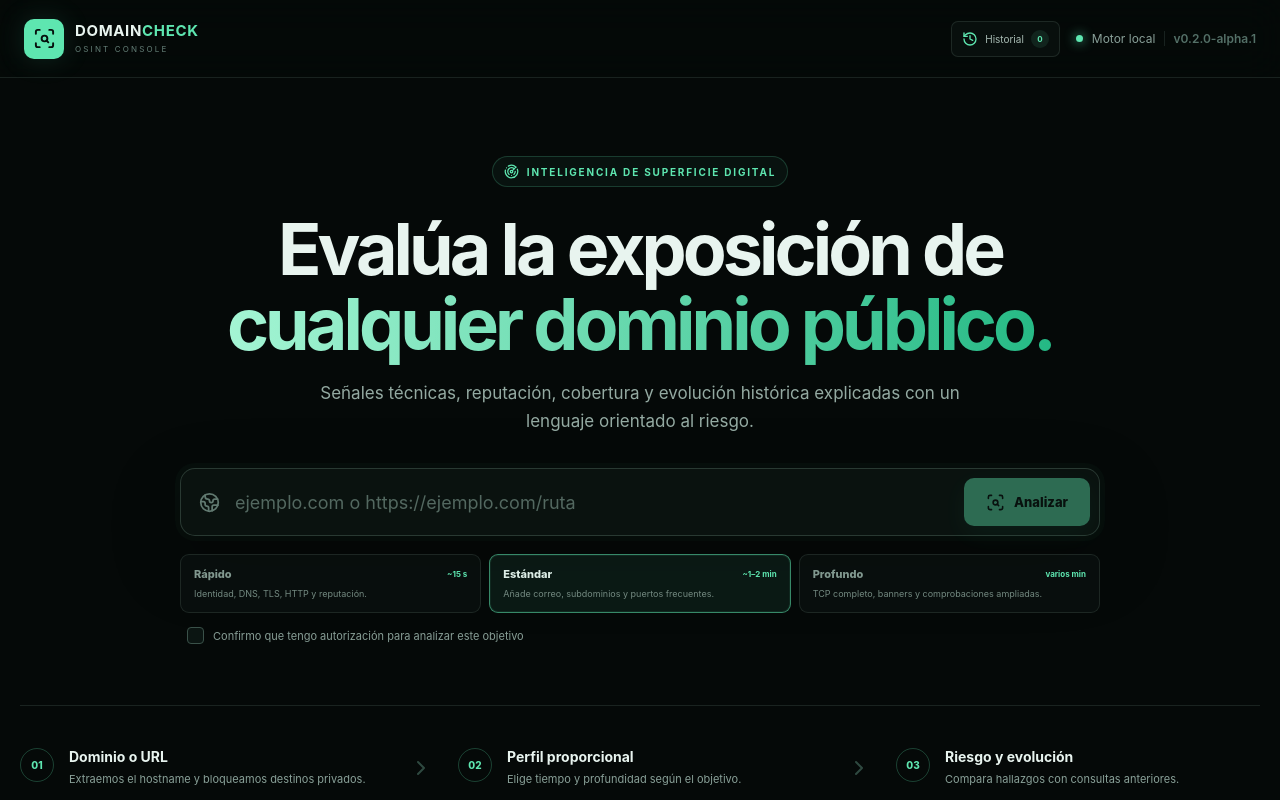
Test: App › requires explicit authorization before enabling a scan
Type "example.com" into the field named "Dominio o URL". click: (592, 502)
box: x1=233 y1=491 x2=951 y2=514
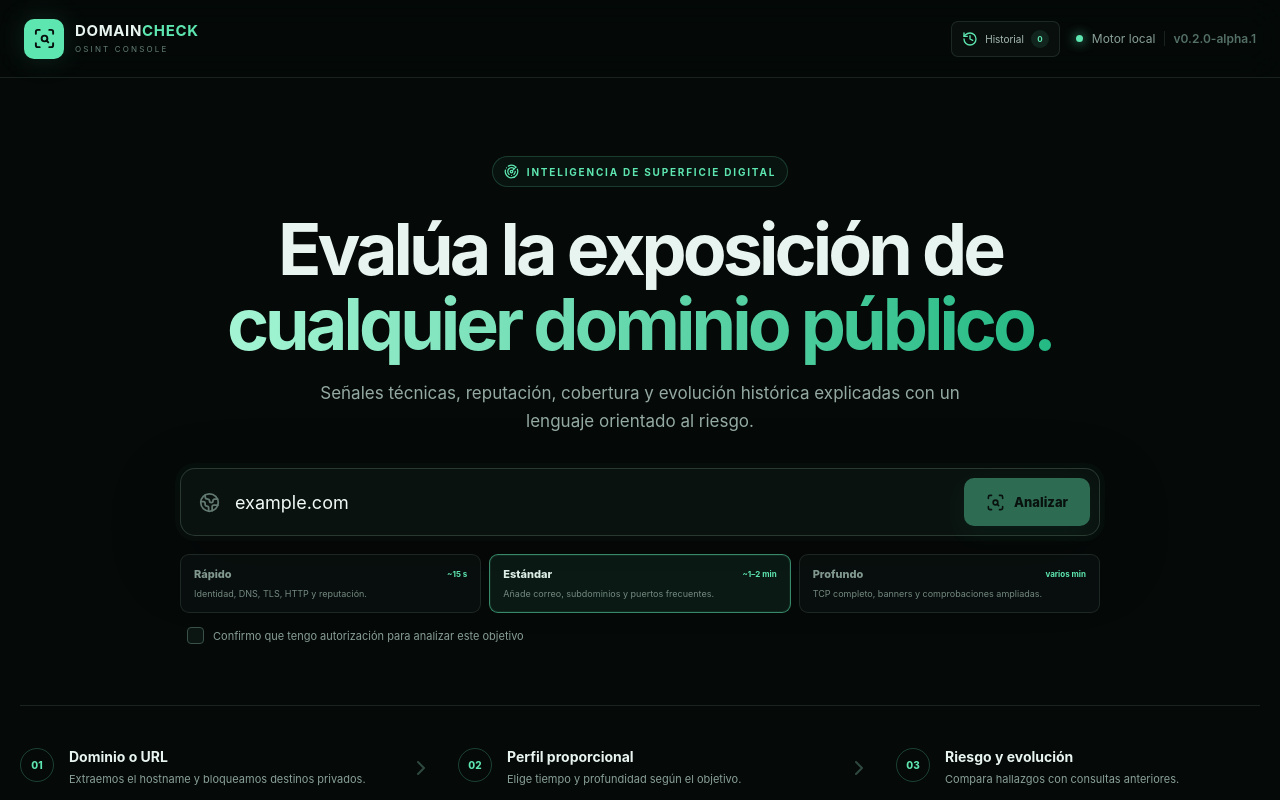
Expected: the button "Analizar" is disabled, x1=964 y1=478 x2=1090 y2=526
Click the text "Confirmo que tengo autorización para analizar este objetivo". click: (368, 636)
box: x1=213 y1=629 x2=524 y2=643
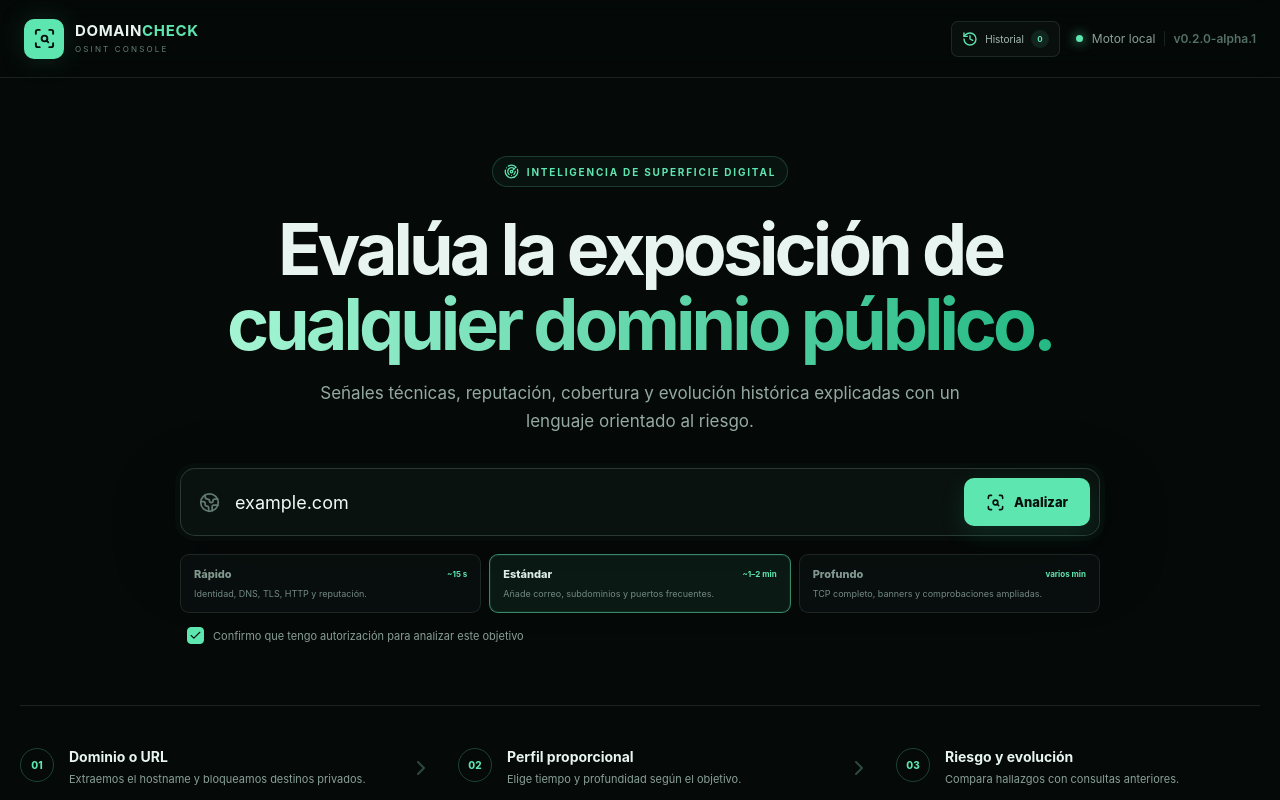
Result: the button "Analizar" is enabled at x1=964 y1=478 x2=1090 y2=526
